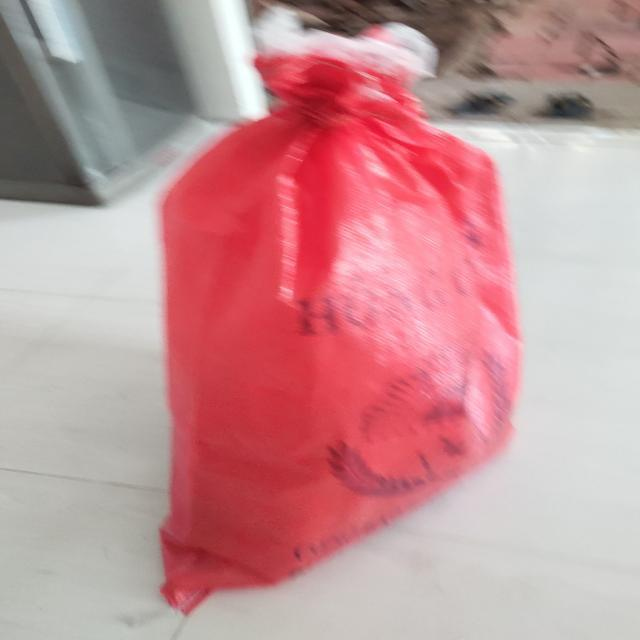gunny_bag: (161, 50, 521, 614)
